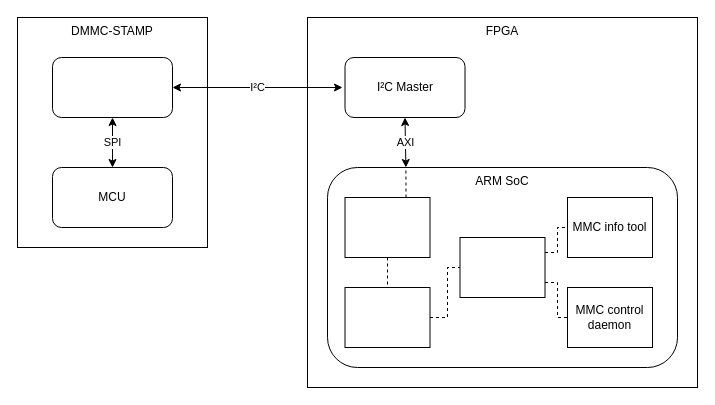
The diagram is 715 pixels wide and 405 high, and some of its shapes have lost their labels. Each missing label, with the centre of its shape:
CPLD: (112,87)
I²C Adapter Driver: (387,227)
MMC Mailbox Driver: (387,317)
MMC Mailbox Library: (502,267)
